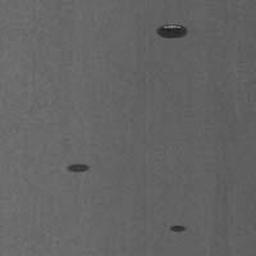Oil spot: (155, 22, 189, 41), (65, 163, 91, 174), (169, 224, 189, 233)
